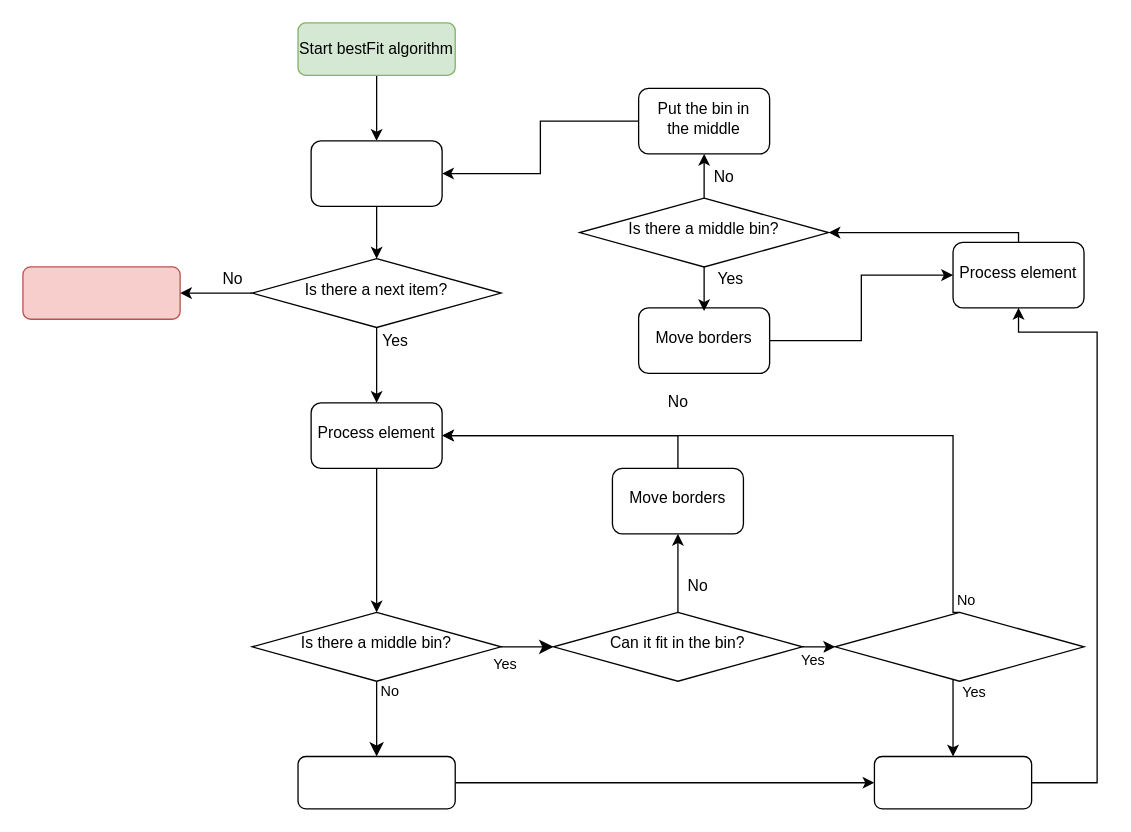
Image size: 1131x832. Some labels were removed from this diagram. The shapes that lost their labels are listed below. From the top down, each one's box as (x1, y1, x2, y2) in pixels, then its label:
(310, 140, 442, 206): Process data
(22, 266, 180, 319): Return used bins
(834, 611, 1084, 681): Is it the least fitting bin?
(297, 755, 455, 809): Open a new bin
(873, 755, 1032, 809): Put the element into the bin
